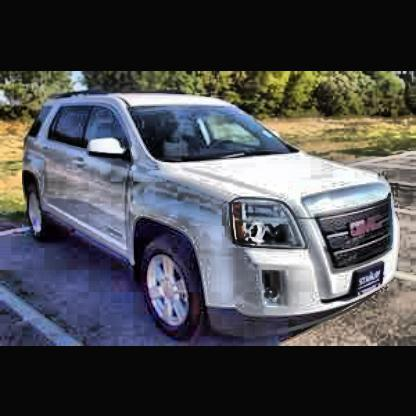GMC Terrain SUV 2012: (22, 89, 408, 341)
